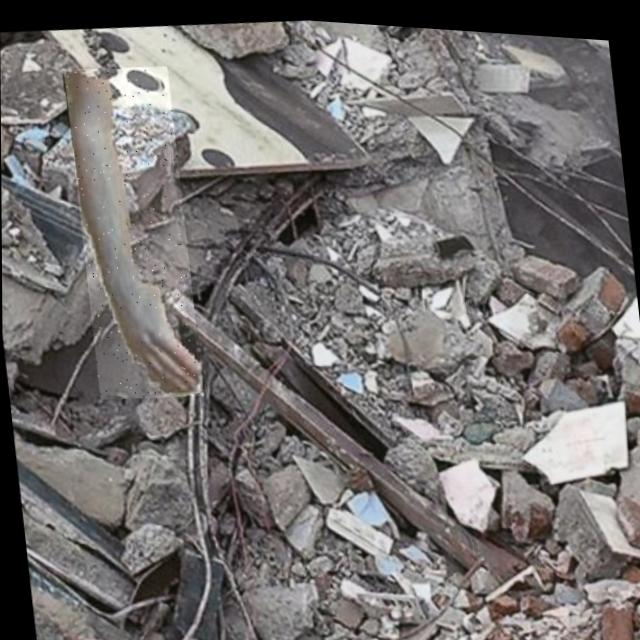Person in Rubble: (63, 58, 203, 403)
